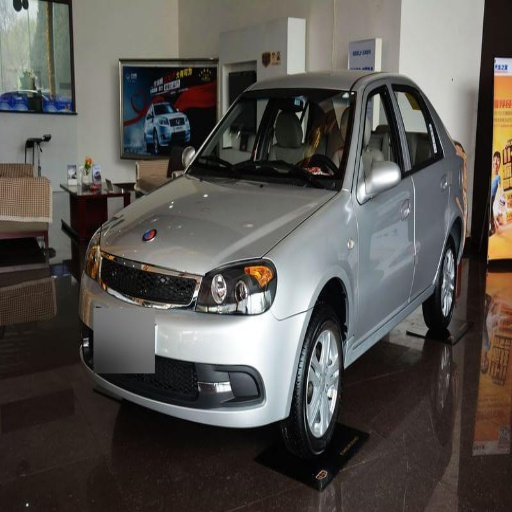front_bumper: (86, 252, 309, 426)
front_glass: (188, 90, 354, 189)
front_left_door: (354, 81, 414, 340)
